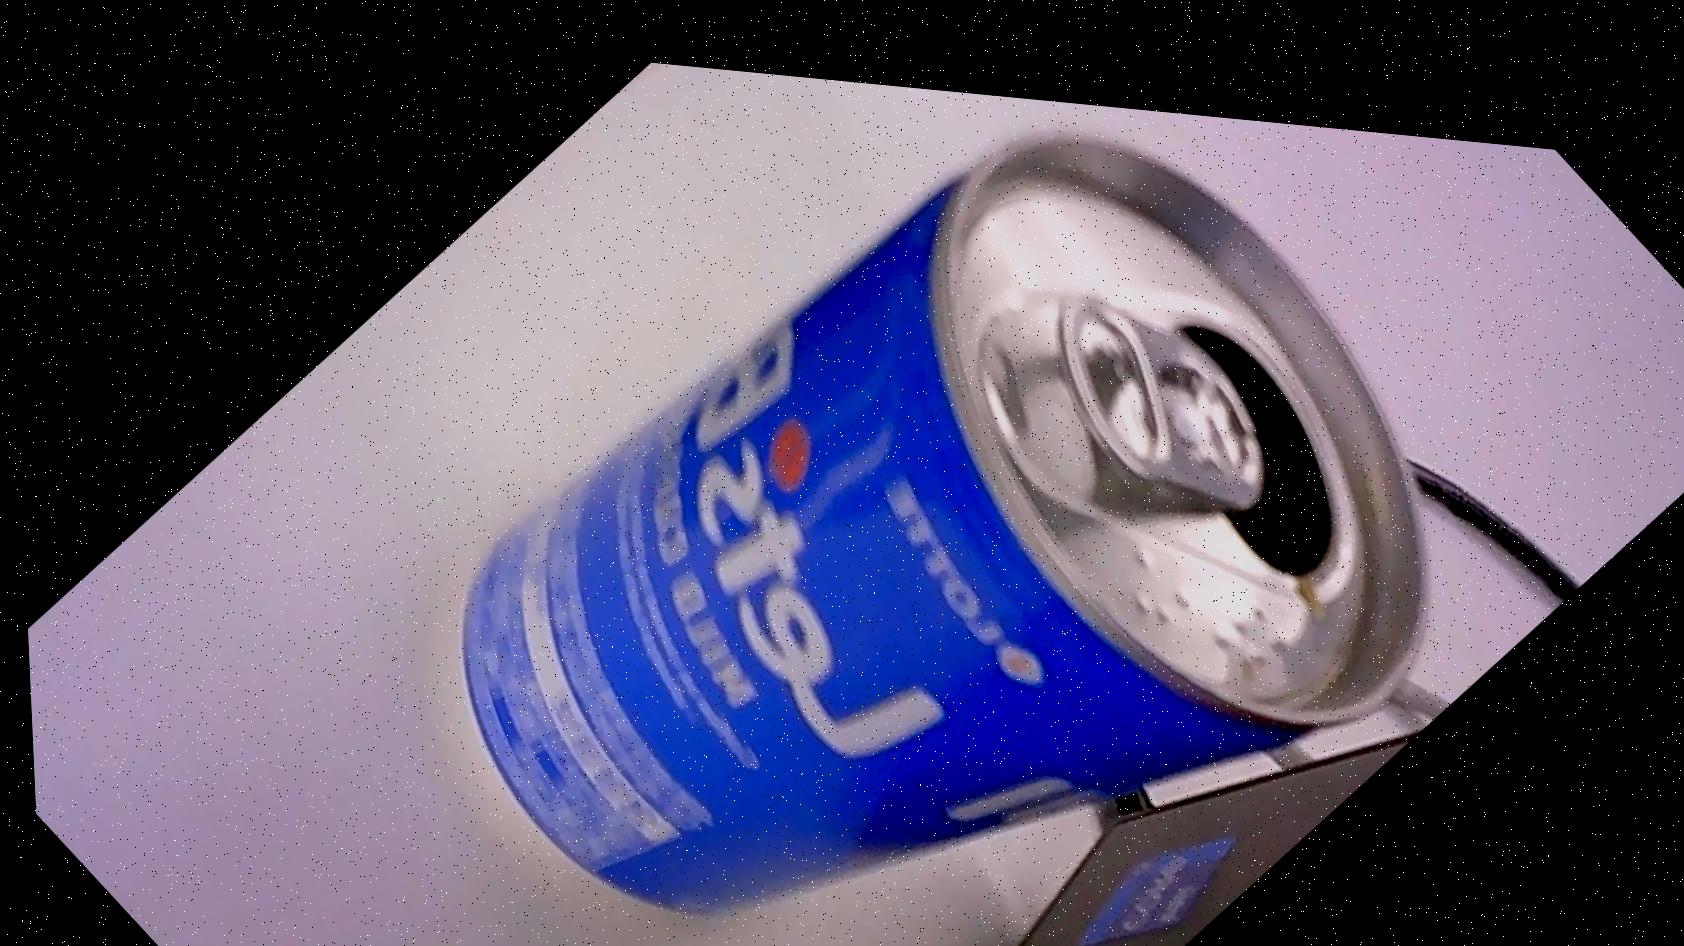letsbe: (342, 25, 1574, 946)
